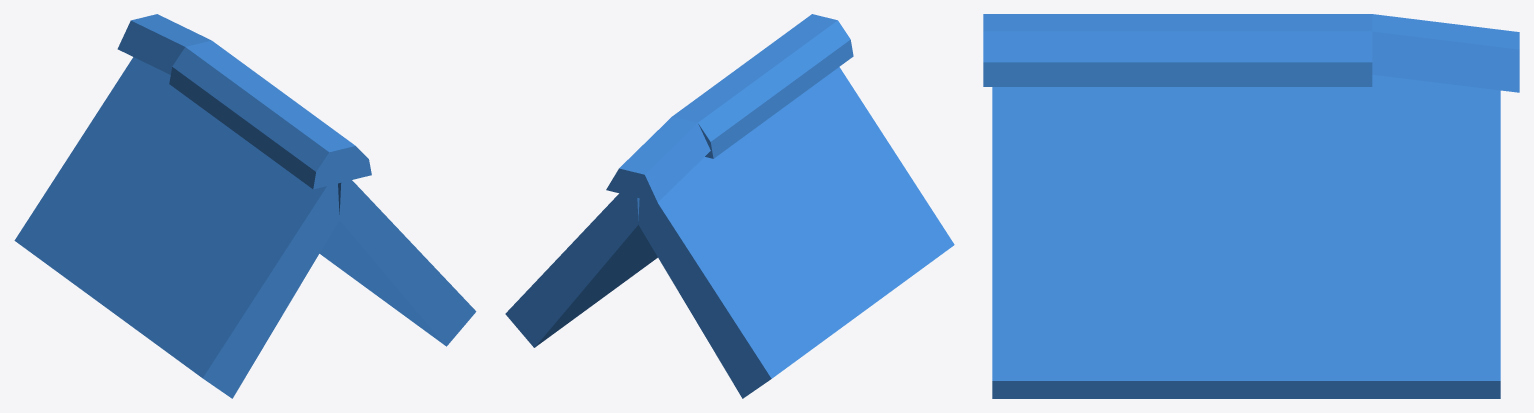
File: Collision_Roof_2x4_RoundTile.fbx
The picture shows the model from 3 angles, left to right: view 1: azimuth 30°, elevation 25°; view 2: azimuth 150°, elevation 25°; view 3: azimuth 270°, elevation 25°; orthographic projection. The views are drawn at different scales.
Parts seen in each view (by area): view 1: UCX_Roof_2x4_RoundTile_1; view 2: UCX_Roof_2x4_RoundTile_1; view 3: UCX_Roof_2x4_RoundTile_1.
Boxes of the visible parts, left/top/right/bottom form: UCX_Roof_2x4_RoundTile_1: left=14, top=14, right=476, bottom=398; UCX_Roof_2x4_RoundTile_1: left=505, top=14, right=954, bottom=398; UCX_Roof_2x4_RoundTile_1: left=983, top=14, right=1519, bottom=398.
Bounding box in the file's own units: 334 × 263 × 419.
